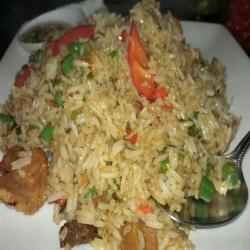rice: (21, 22, 215, 228)
